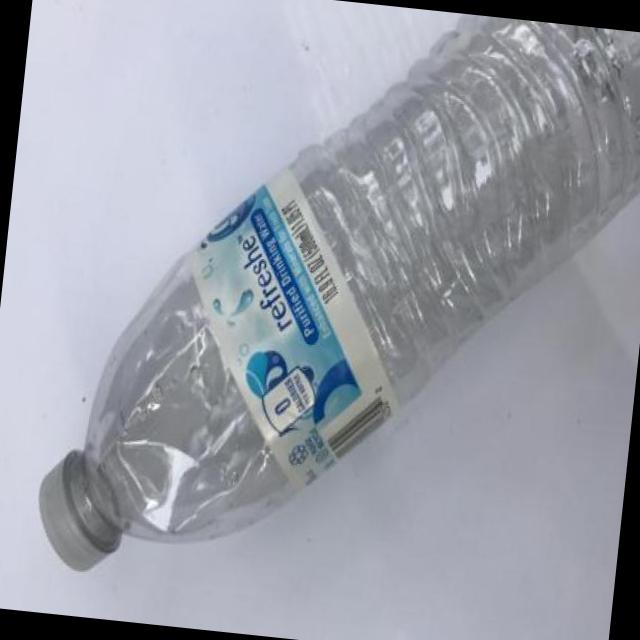plastic_bottle: (31, 0, 640, 627)
